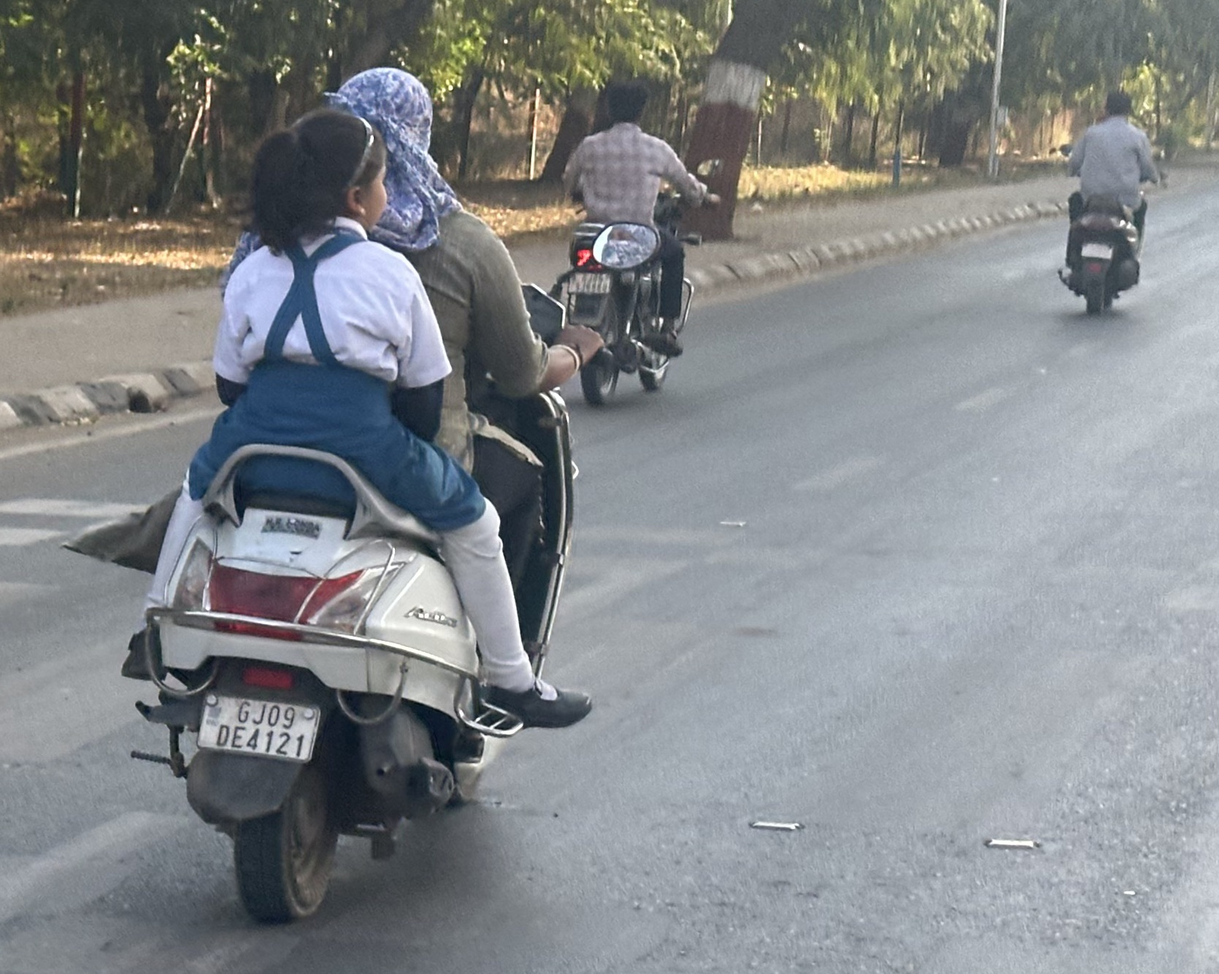BikeWithRider: (50, 58, 607, 937), (547, 70, 726, 412), (1045, 80, 1172, 324)
NoHelmet: (243, 101, 399, 250), (319, 61, 444, 193), (596, 74, 655, 137), (1095, 83, 1139, 131)
